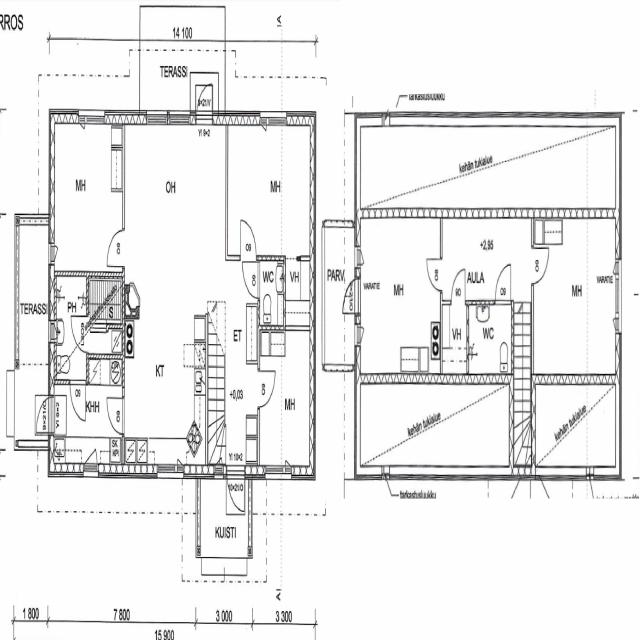door: (228, 464, 245, 517), (196, 73, 212, 123), (34, 396, 54, 432), (340, 279, 360, 313), (495, 262, 511, 304), (258, 370, 276, 407), (70, 379, 86, 420), (241, 218, 256, 260), (242, 262, 259, 298), (107, 398, 124, 433), (71, 316, 88, 351), (532, 248, 548, 284), (108, 230, 124, 265), (426, 258, 442, 291), (451, 268, 465, 304)
